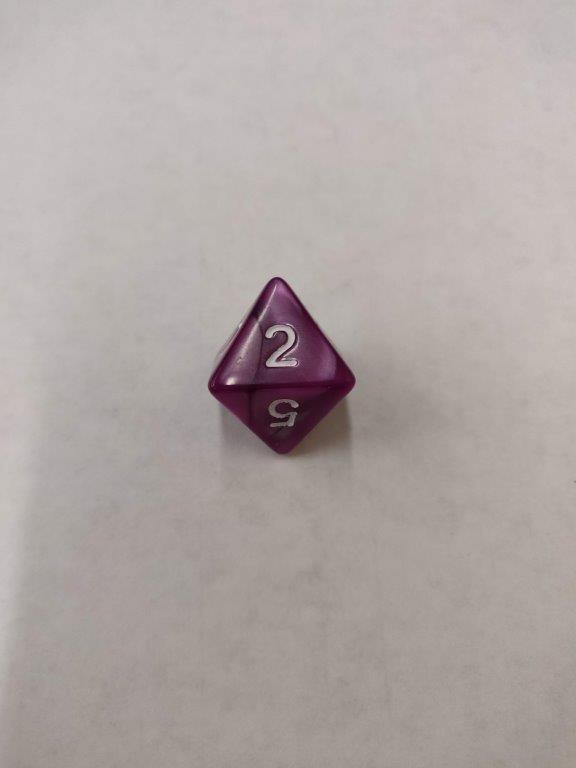d8-2: (205, 275, 357, 457)
